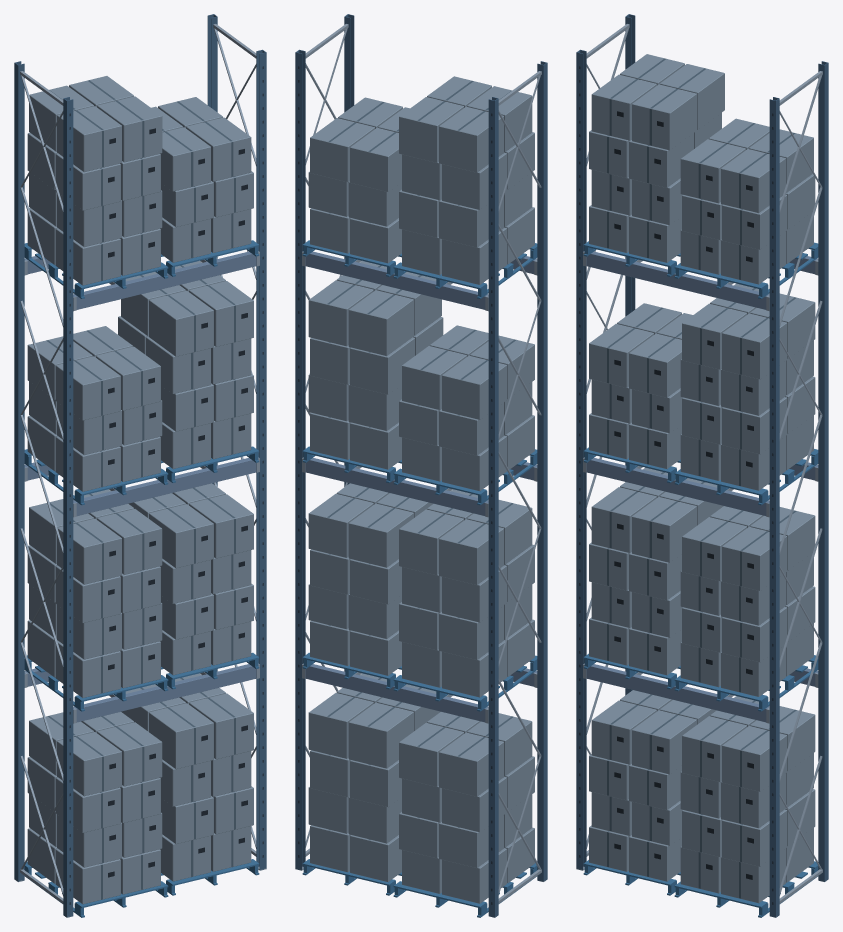
Rendered from SM_GHS_V2Rack_A_W23409.fbx.
The picture shows the model from 3 angles, left to right: view 1: azimuth 30°, elevation 25°; view 2: azimuth 150°, elevation 25°; view 3: azimuth 330°, elevation 25°; orthographic projection.
Visible parts, largest first — view 1: SM_GHS_V2Rack_A_W23409; view 2: SM_GHS_V2Rack_A_W23409; view 3: SM_GHS_V2Rack_A_W23409.
Boxes of the visible parts, x1,y1,x2,y2 form: SM_GHS_V2Rack_A_W23409: (14, 14, 266, 917); SM_GHS_V2Rack_A_W23409: (295, 14, 547, 917); SM_GHS_V2Rack_A_W23409: (576, 14, 828, 917).
Bounding box in the file's own units: 234 × 122 × 915.
